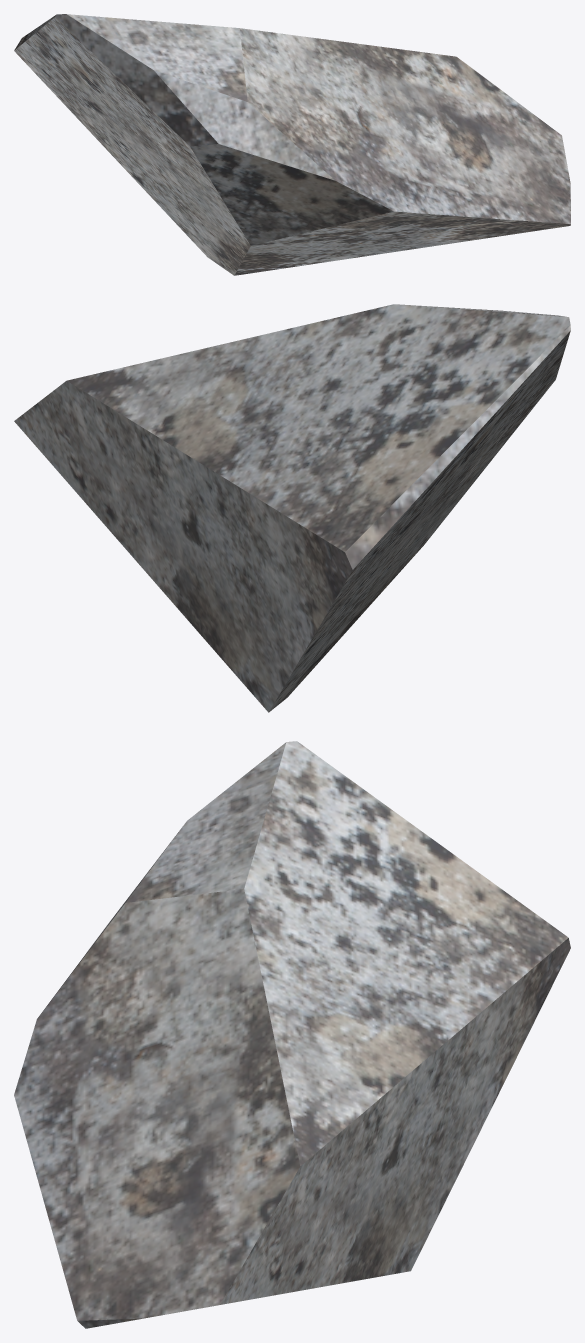
Rendered from Asteroid_Large_001_02_006_03_006.fbx.
The picture shows the model from 3 angles, top to bottom: view 1: azimuth 30°, elevation 25°; view 2: azimuth 150°, elevation 25°; view 3: azimuth 270°, elevation 25°; orthographic projection. The views are drawn at different scales.
Parts seen in each view (by area): view 1: Asteroid_Large_001_02_006_03_006; view 2: Asteroid_Large_001_02_006_03_006; view 3: Asteroid_Large_001_02_006_03_006.
Part boxes in pixels (x1,y1,x2,y2): Asteroid_Large_001_02_006_03_006: [14, 14, 570, 275]; Asteroid_Large_001_02_006_03_006: [14, 304, 570, 712]; Asteroid_Large_001_02_006_03_006: [14, 741, 570, 1328].
Bounding box in the file's own units: 11.67 × 7.75 × 9.37.
